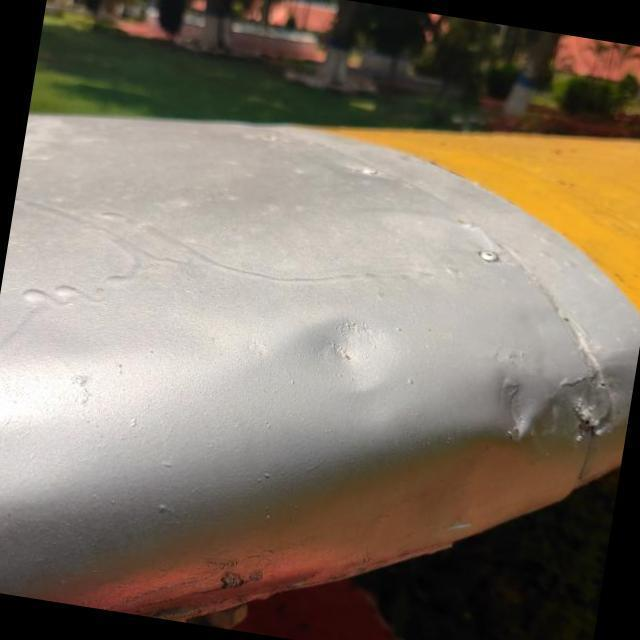Dent: (269, 278, 425, 431), (463, 348, 579, 468)
